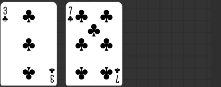7C: (66, 5, 74, 23)
